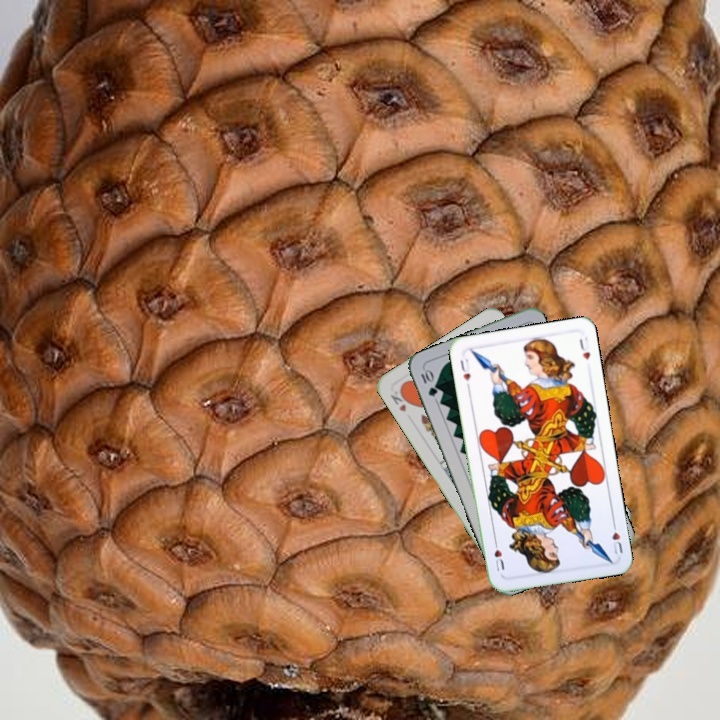G10: (417, 365, 440, 399)
HK: (386, 385, 413, 415)
HU: (608, 518, 625, 557), (456, 354, 473, 391)
